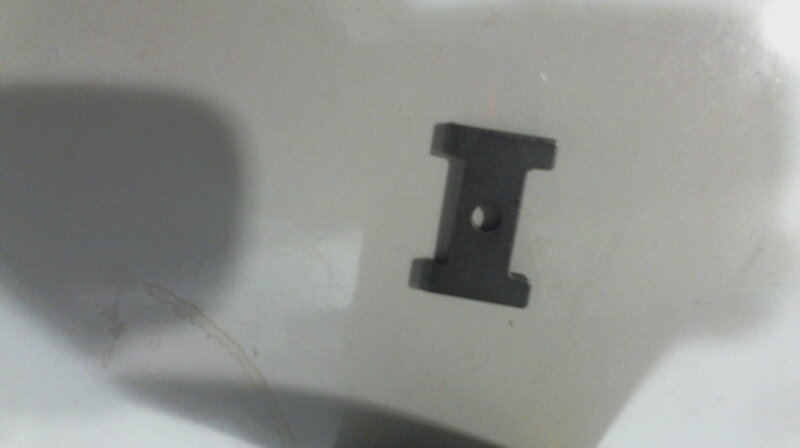O002: (418, 120, 557, 311)
